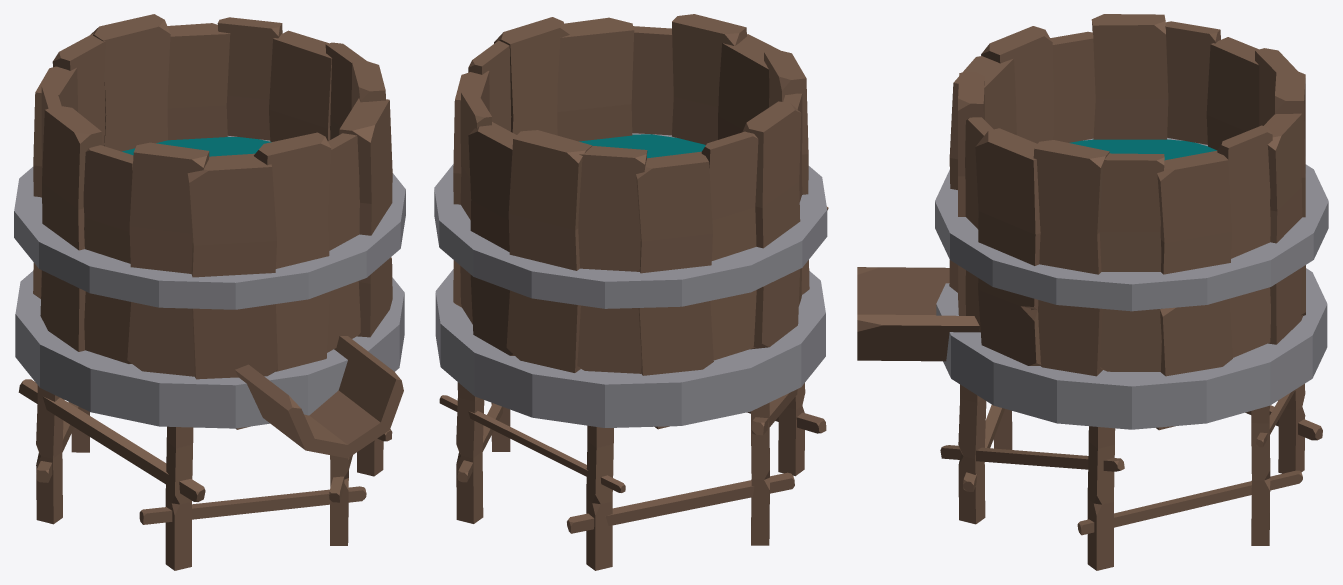
File: WaterTank.fbx
3 renders of one model, left to right at view 1: azimuth 30°, elevation 25°; view 2: azimuth 150°, elevation 25°; view 3: azimuth 270°, elevation 25°, orthographic.
Visible parts, largest first — view 1: WaterTank; view 2: WaterTank; view 3: WaterTank.
Boxes of the visible parts, x1,y1,x2,y2 form: WaterTank: (14, 14, 405, 570); WaterTank: (434, 14, 828, 570); WaterTank: (857, 14, 1328, 570).
Bounding box in the file's own units: 1.43 × 1.65 × 1.72.
